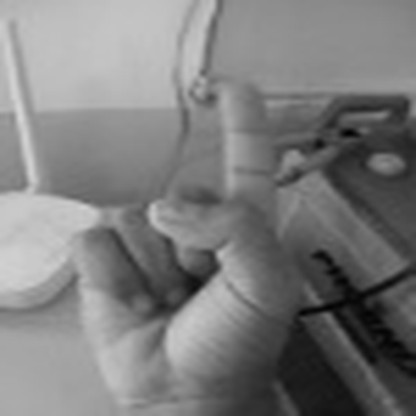d: (69, 75, 282, 414)
